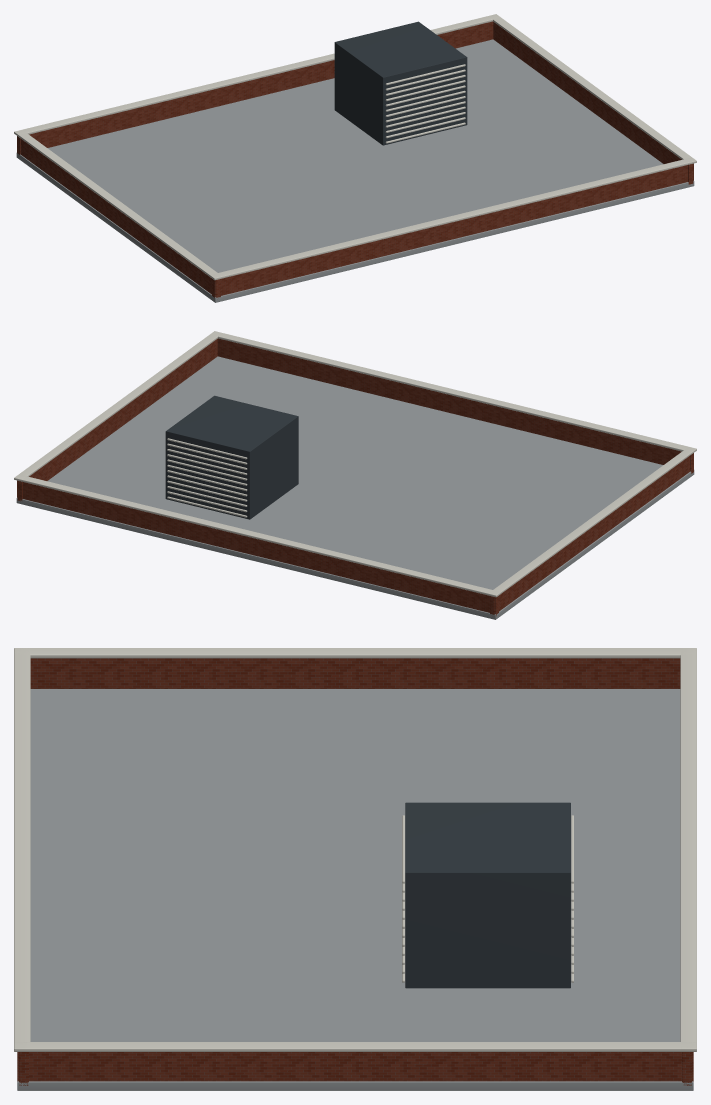
Rendered from SM_LegacyTower_Roof.fbx.
3 views of the same model, one above another, from view 1: azimuth 30°, elevation 25°; view 2: azimuth 150°, elevation 25°; view 3: azimuth 270°, elevation 25° (orthographic). The views are drawn at different scales.
Parts seen in each view (by area): view 1: SM_LegacyTower_Roof; view 2: SM_LegacyTower_Roof; view 3: SM_LegacyTower_Roof.
Part boxes in pixels (x1=…): SM_LegacyTower_Roof: x1=14, y1=14, x2=696, y2=302; SM_LegacyTower_Roof: x1=14, y1=331, x2=696, y2=619; SM_LegacyTower_Roof: x1=14, y1=648, x2=696, y2=1090.
Size of what is drawn, in the model's own units: 2860 by 2060 by 415.
